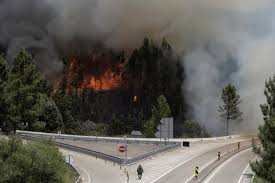fire: (65, 59, 132, 90)
